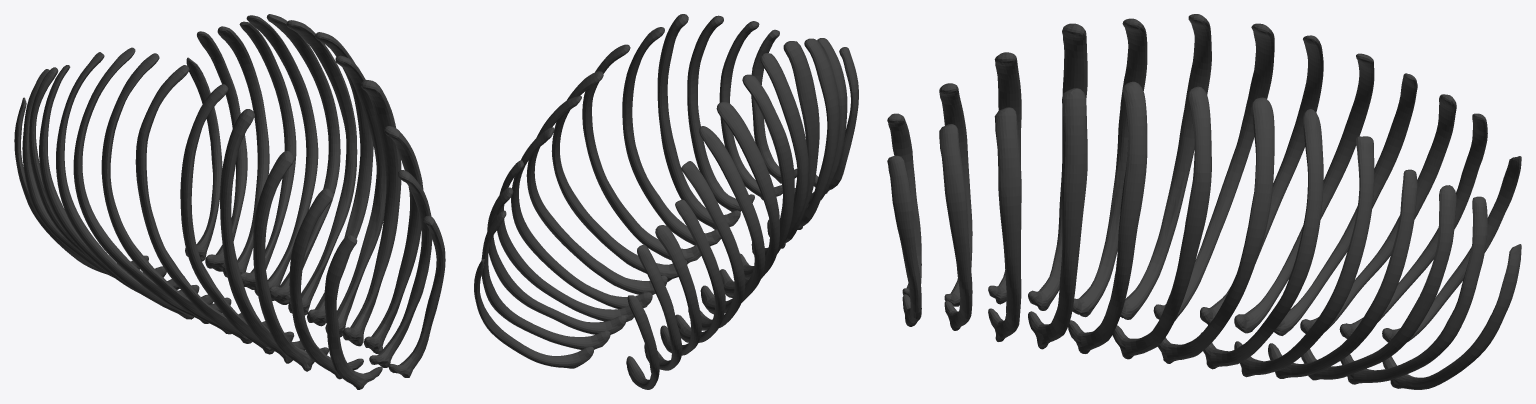
Rendered from Ribs_1.glb.
3 renders of one model, left to right at view 1: azimuth 30°, elevation 25°; view 2: azimuth 150°, elevation 25°; view 3: azimuth 270°, elevation 25°, orthographic. The views are drawn at different scales.
Parts seen in each view (by area): view 1: Ribs_1; view 2: Ribs_1; view 3: Ribs_1.
Part boxes in pixels (left/top/right/bottom): Ribs_1: left=14, top=14, right=445, bottom=389; Ribs_1: left=474, top=14, right=858, bottom=389; Ribs_1: left=887, top=14, right=1521, bottom=389.
Size of the model in its own units: 0.00492 by 0.00519 by 0.00943.
Materials: 1 (1 with a texture image).
